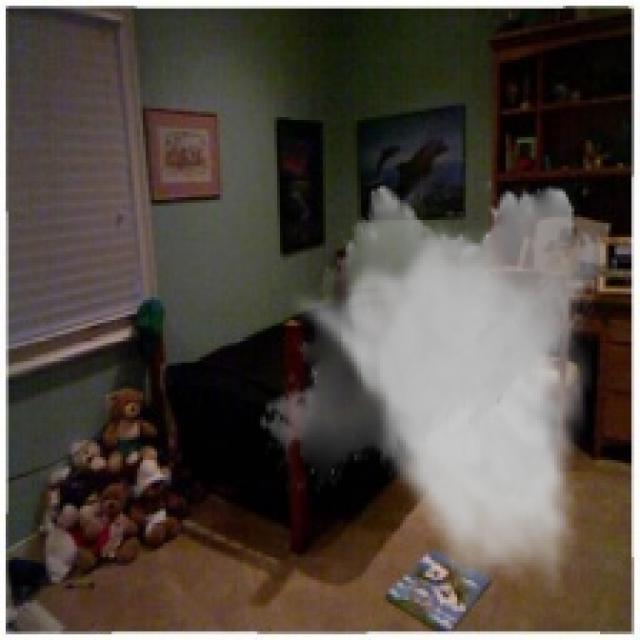Smoke: (257, 174, 620, 597)
